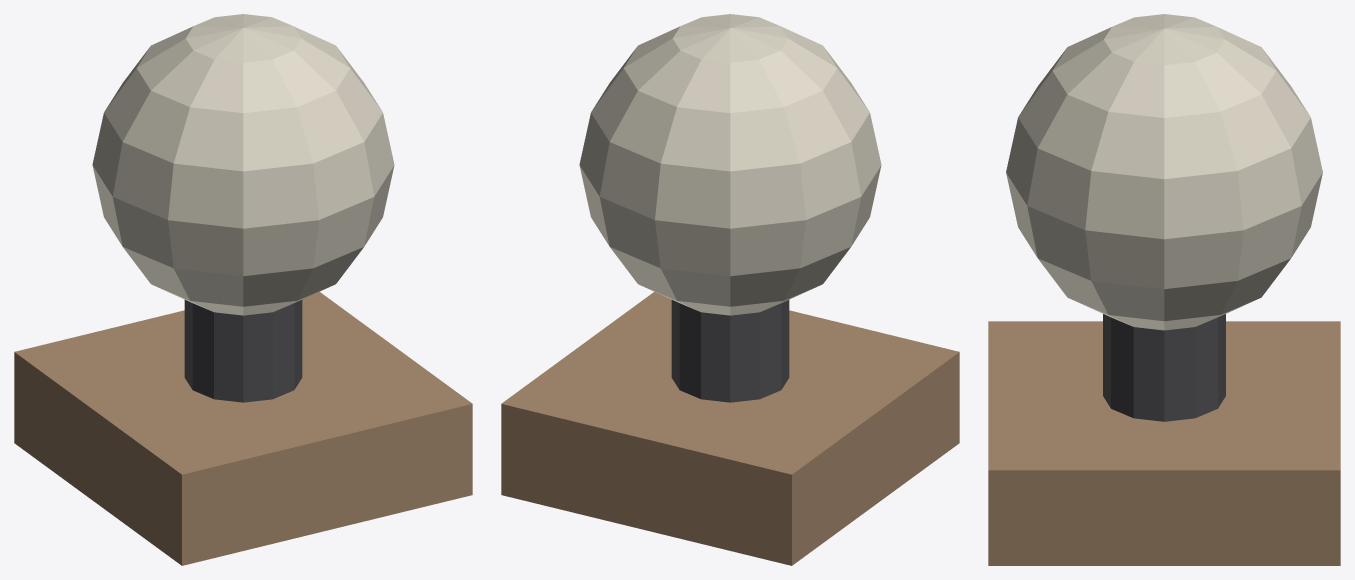
Rendered from ilu_base_madeira.glb.
The picture shows the model from 3 angles, left to right: view 1: azimuth 30°, elevation 25°; view 2: azimuth 150°, elevation 25°; view 3: azimuth 270°, elevation 25°; orthographic projection. The views are drawn at different scales.
Visible parts, largest first — view 1: ILU_Base_Madeira_v01; view 2: ILU_Base_Madeira_v01; view 3: ILU_Base_Madeira_v01.
Boxes of the visible parts, <box> form: ILU_Base_Madeira_v01: <box>14,14,472,565</box>; ILU_Base_Madeira_v01: <box>501,14,959,565</box>; ILU_Base_Madeira_v01: <box>988,14,1340,565</box>.
Bounding box in the file's own units: 0.2 × 0.29 × 0.2.
